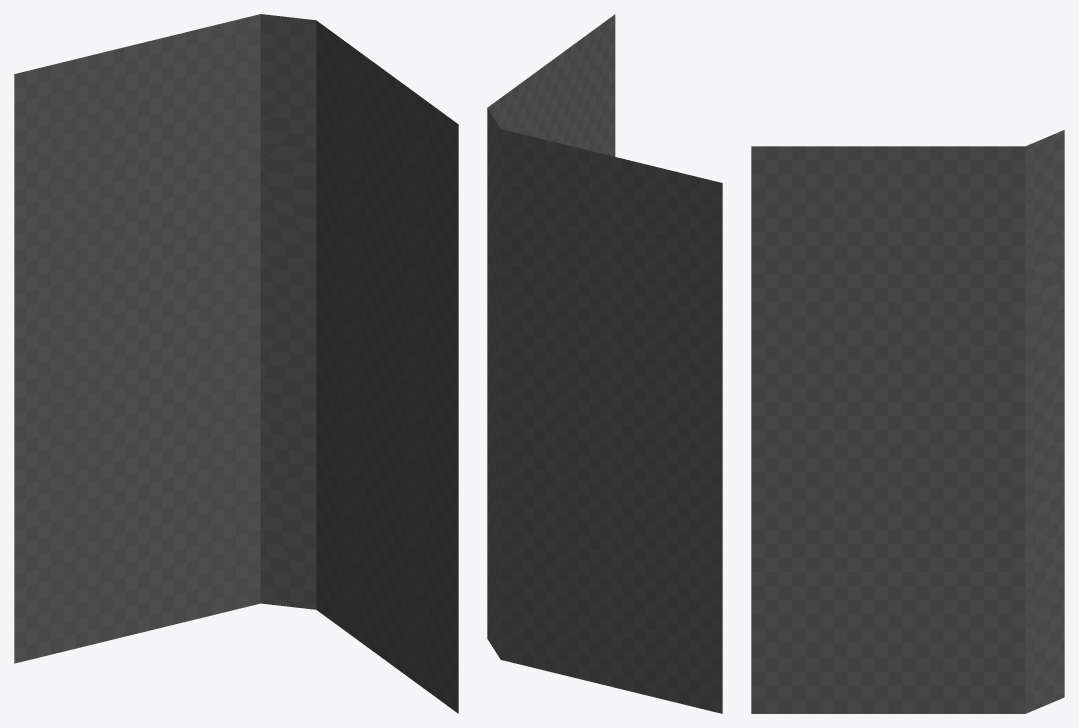
3 renders of one model, left to right at view 1: azimuth 30°, elevation 25°; view 2: azimuth 150°, elevation 25°; view 3: azimuth 270°, elevation 25°, orthographic. The views are drawn at different scales.
Parts seen in each view (by area): view 1: 0; view 2: 0; view 3: 0.
Part boxes in pixels (bbox=[...]): 0: bbox=[14, 14, 458, 713]; 0: bbox=[487, 14, 722, 713]; 0: bbox=[751, 130, 1064, 713].
Bounding box in the file's own units: 2 × 4 × 2.
1 material, 1 textured.
